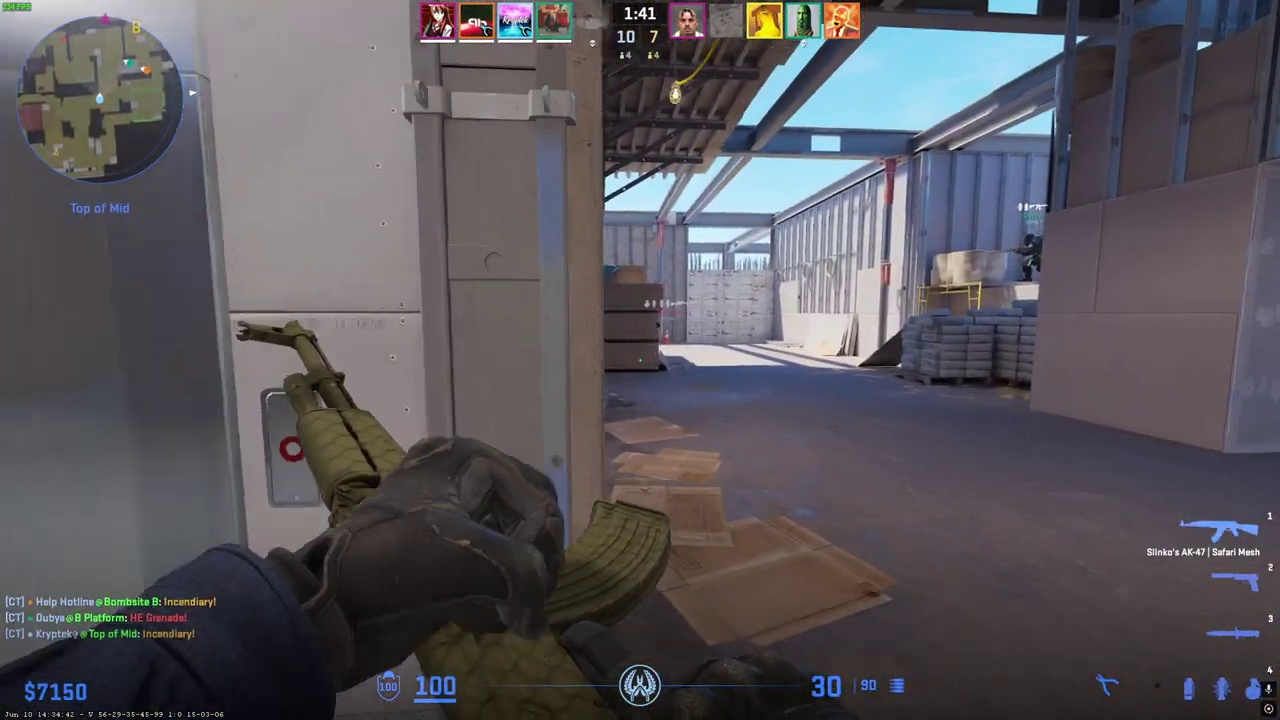CT: (1018, 233, 1042, 282)
